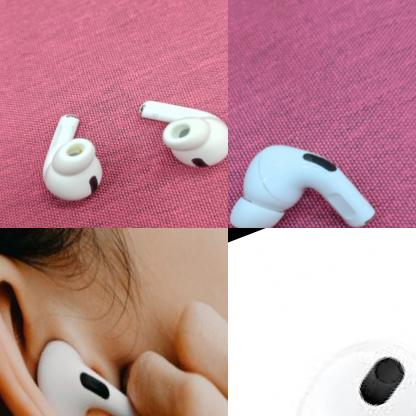Airpods: (228, 100, 399, 228), (0, 75, 133, 228), (14, 307, 163, 416), (118, 58, 228, 197), (262, 320, 416, 416)
